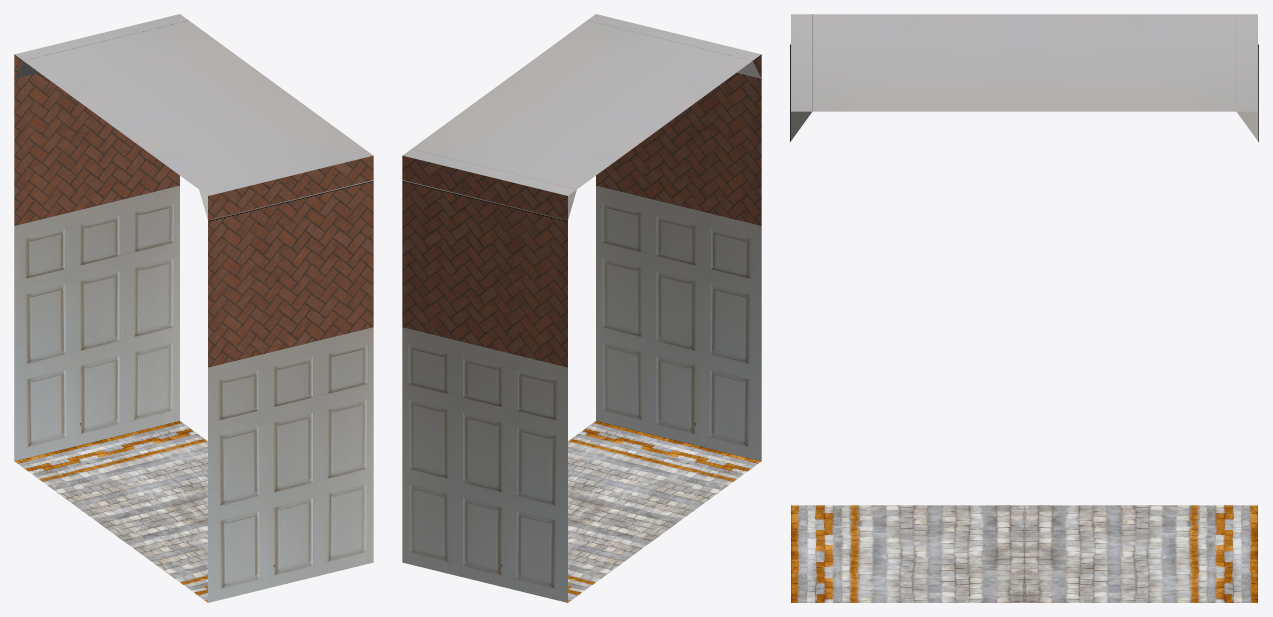
The model's file is Coridor.fbx.
3 renders of one model, left to right at view 1: azimuth 30°, elevation 25°; view 2: azimuth 150°, elevation 25°; view 3: azimuth 270°, elevation 25°, orthographic. The views are drawn at different scales.
Parts seen in each view (by area): view 1: Object053; view 2: Object053; view 3: Object053.
Part boxes in pixels (box(x1,y1,x2,y2)): Object053: box(14, 14, 373, 602); Object053: box(402, 14, 761, 602); Object053: box(790, 14, 1258, 602).
Size of the model in its own units: 1.77 by 4.15 by 3.59.
1 material, 1 textured.
